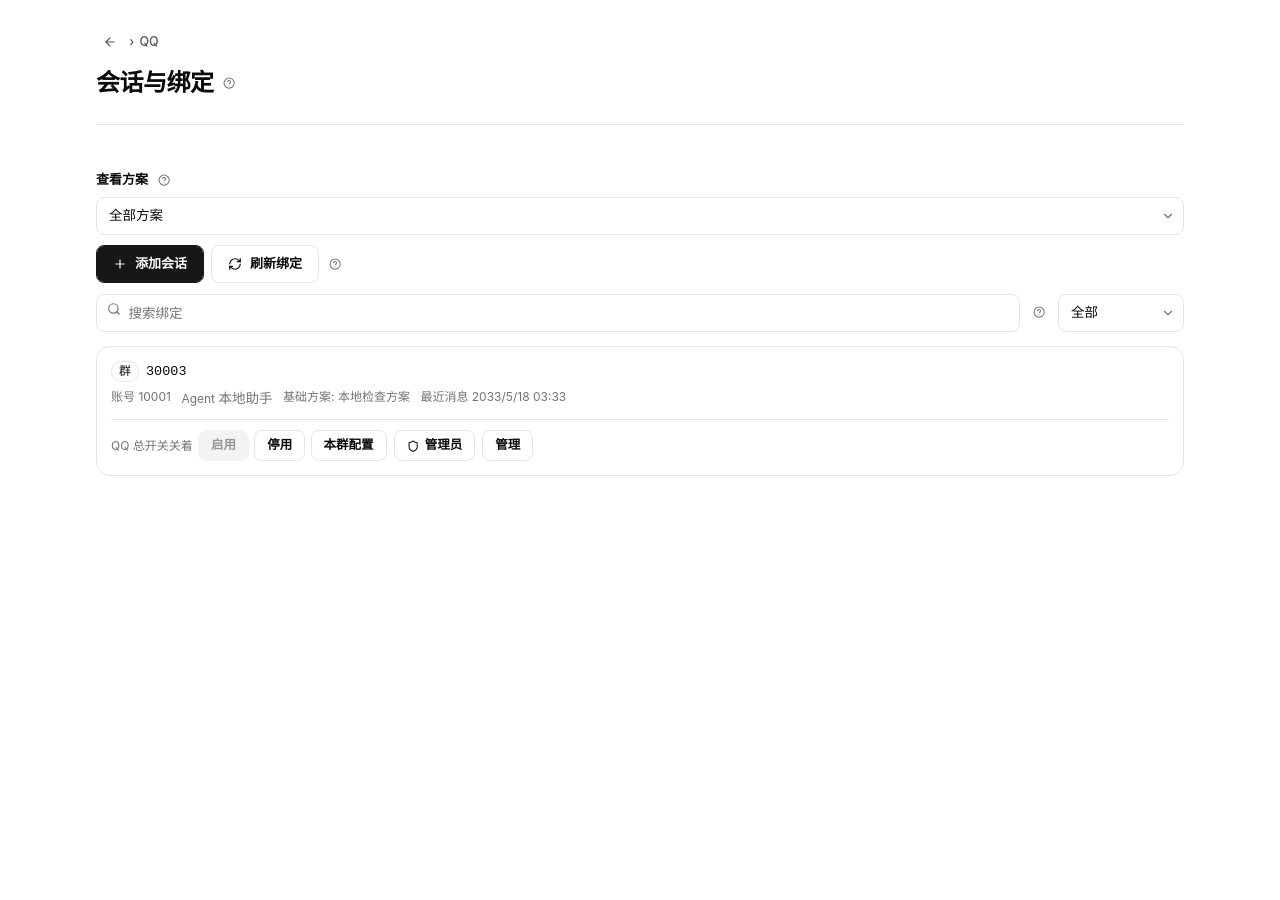
it: scheme bindings (详情「使用会话」与全局「会话绑定」共用视图) › keeps the binding memory controls on the editor's memory tab
Step 1. Click the button "管理" → click(508, 446), box left=482, top=430, right=533, bottom=461
(page scrolled)
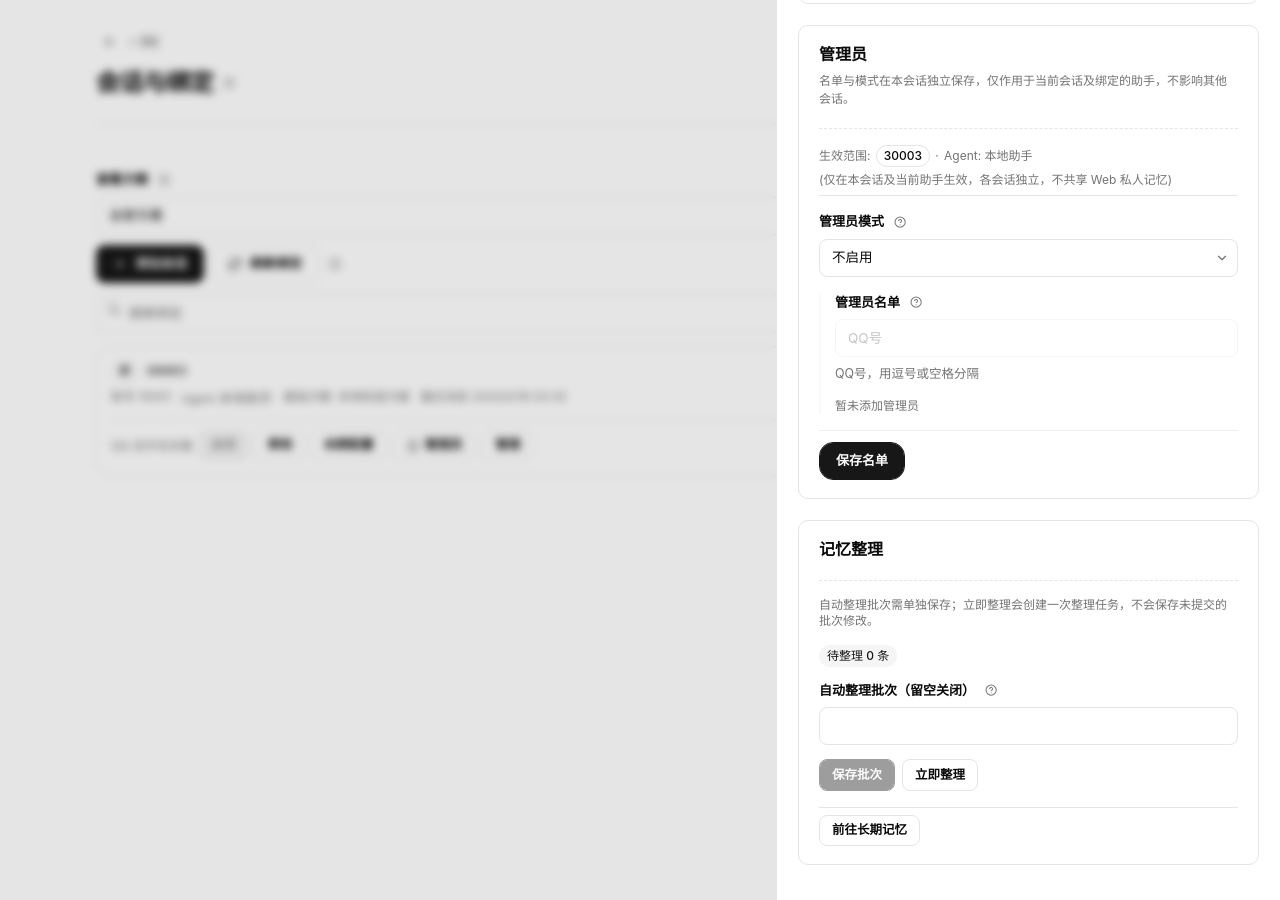
Expected: the text "待整理 0 条" is shown, left=819, top=645, right=897, bottom=667
Expected: the number field labelled "自动整理批次（留空关闭）" is shown, left=819, top=707, right=1238, bottom=745
Expected: the button "保存批次" is shown, left=819, top=759, right=895, bottom=791
